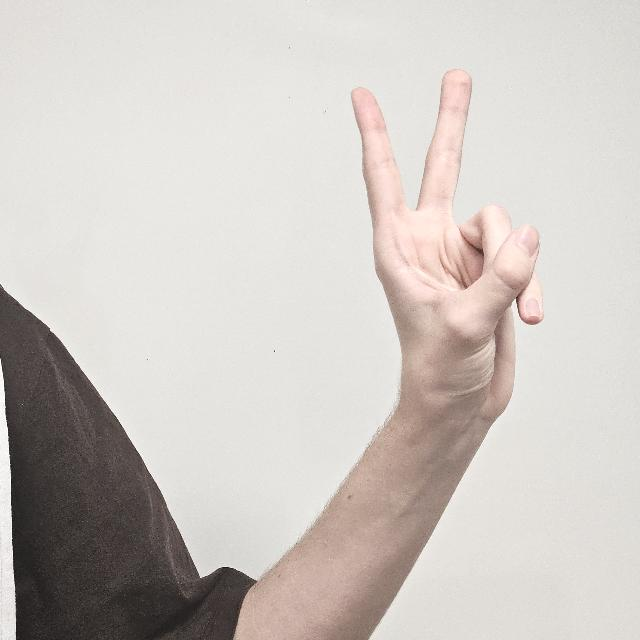Triangulo: (338, 70, 592, 460)
